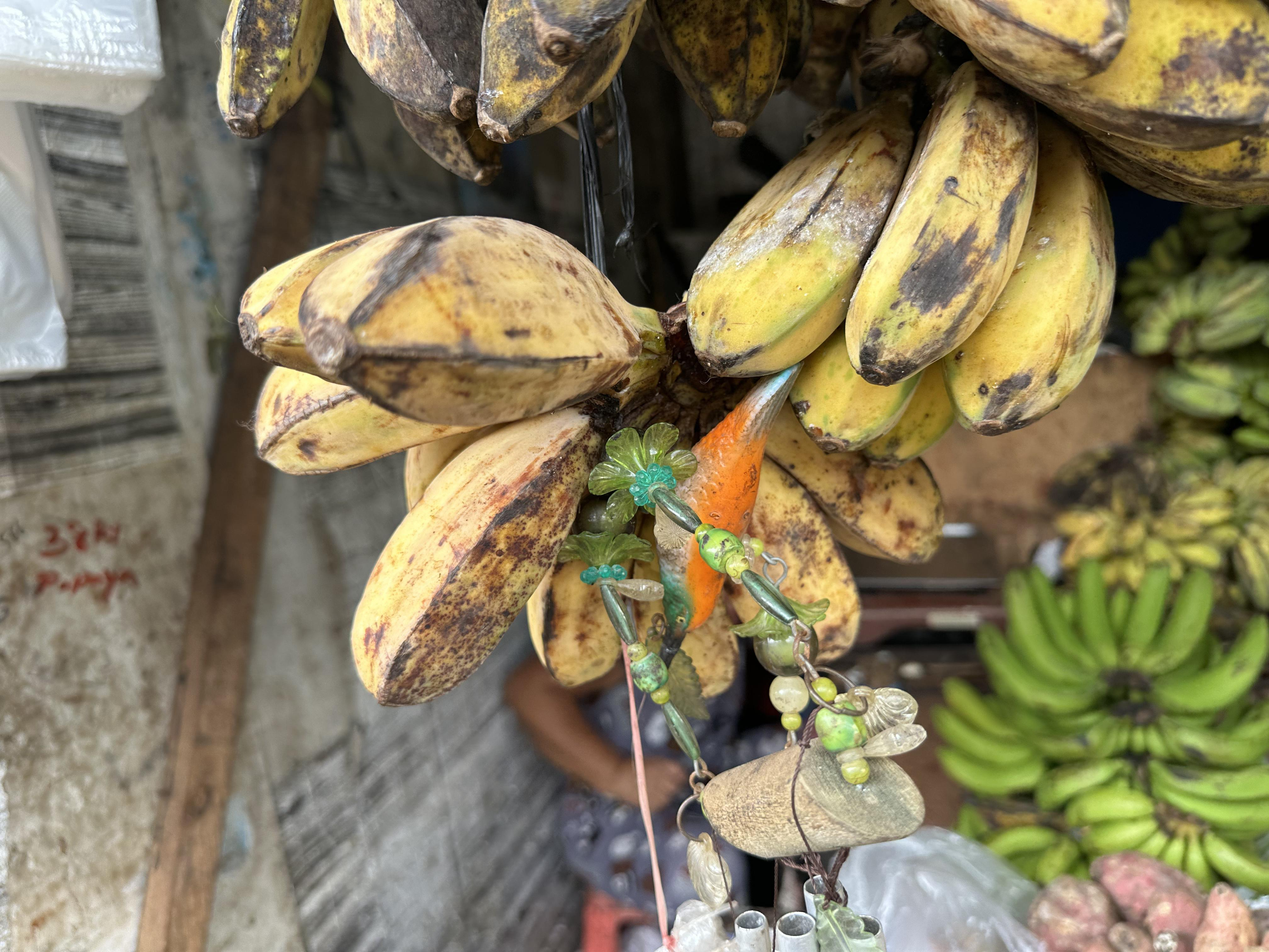ripe: (238, 217, 645, 708), (903, 0, 1269, 212)
underripe: (684, 57, 1116, 465)
